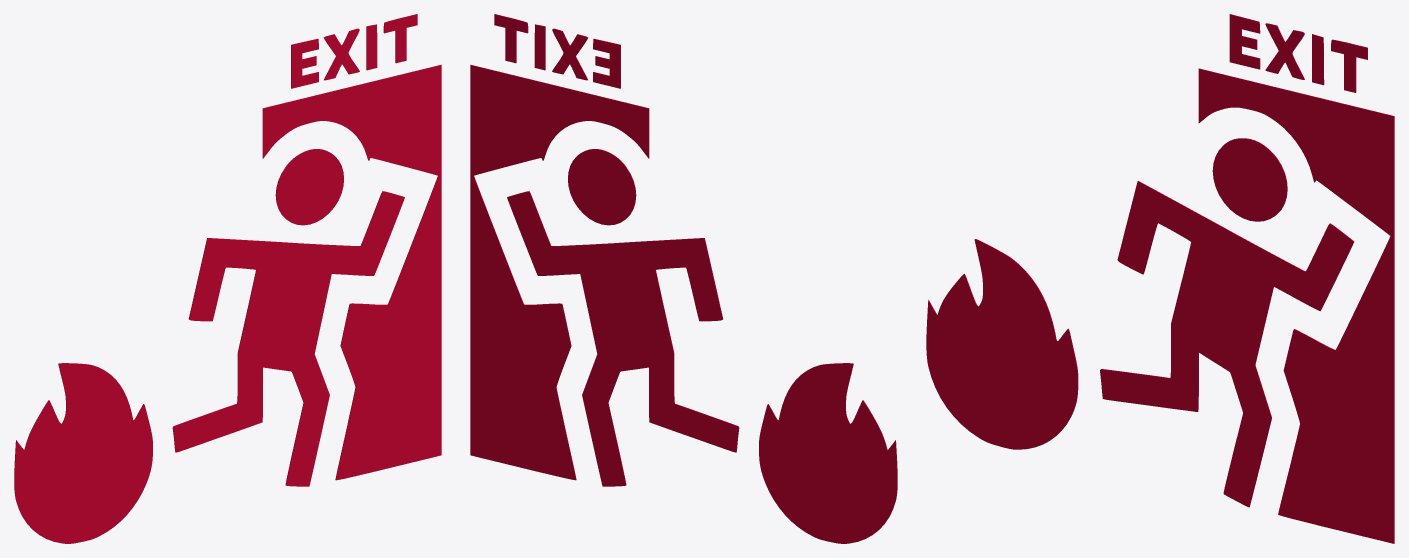
The model's file is EmergeExit.glb.
3 views of the same model, side by side, from view 1: azimuth 30°, elevation 25°; view 2: azimuth 150°, elevation 25°; view 3: azimuth 330°, elevation 25° (orthographic). The views are drawn at different scales.
Parts seen in each view (by area): view 1: Mesh_Mesh_head_geo.001_lambert2SG.001; view 2: Mesh_Mesh_head_geo.001_lambert2SG.001; view 3: Mesh_Mesh_head_geo.001_lambert2SG.001.
Part boxes in pixels (x1,y1,x2,y2): Mesh_Mesh_head_geo.001_lambert2SG.001: (14, 14, 441, 543); Mesh_Mesh_head_geo.001_lambert2SG.001: (470, 14, 897, 543); Mesh_Mesh_head_geo.001_lambert2SG.001: (926, 14, 1394, 543).
Bounding box in the file's own units: 6.35 × 6.35 × 0.01.
